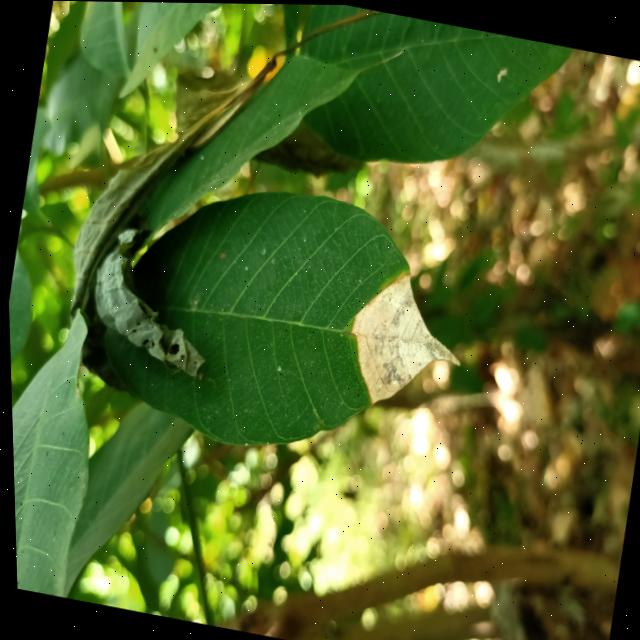Leaf-Blight: (332, 261, 472, 419)
